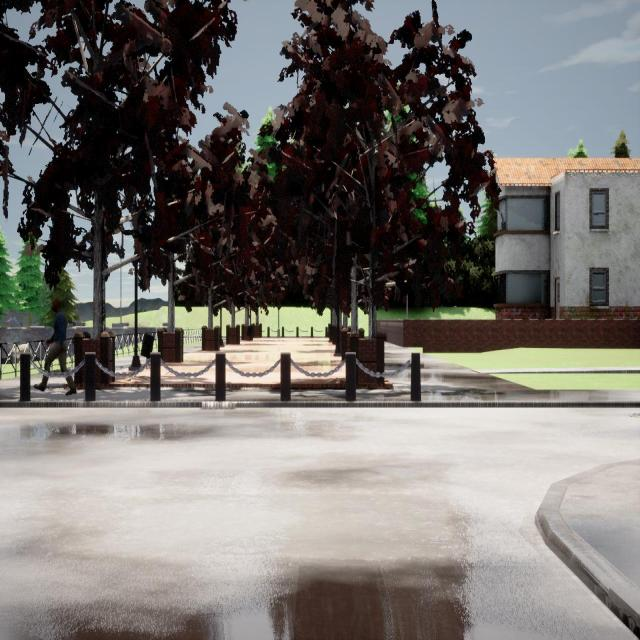Pedestrian: (33, 296, 77, 396)
